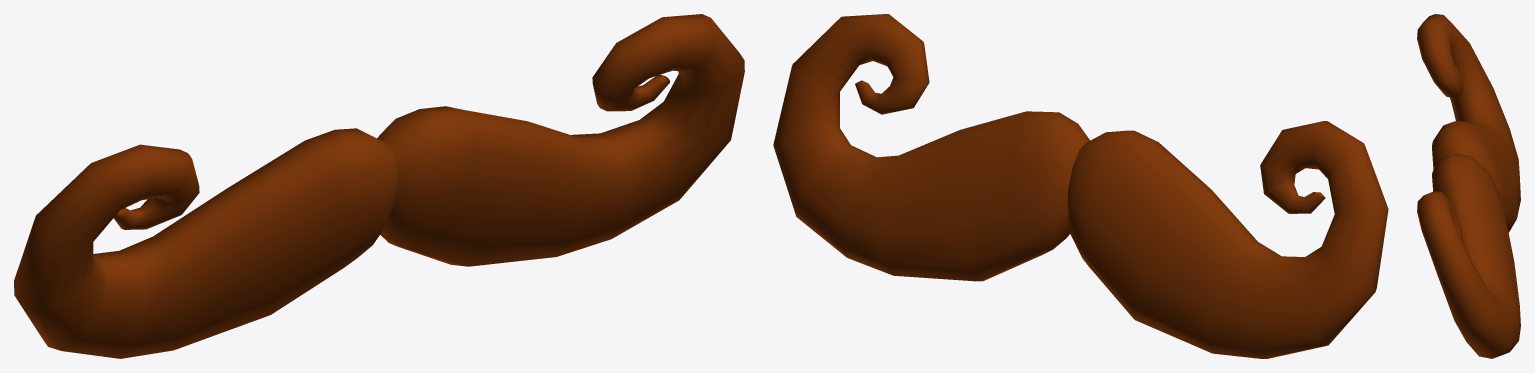
Rendered from Beard_16_02.fbx.
3 renders of one model, left to right at view 1: azimuth 30°, elevation 25°; view 2: azimuth 150°, elevation 25°; view 3: azimuth 270°, elevation 25°, orthographic. The views are drawn at different scales.
Visible parts, largest first — view 1: Beard_16_02; view 2: Beard_16_02; view 3: Beard_16_02.
Part boxes in pixels (x1,y1,x2,y2): Beard_16_02: (14,14,744,358); Beard_16_02: (773,14,1388,358); Beard_16_02: (1417,14,1520,358).
Size of the model in its own units: 14.58 by 4.99 by 2.74.
